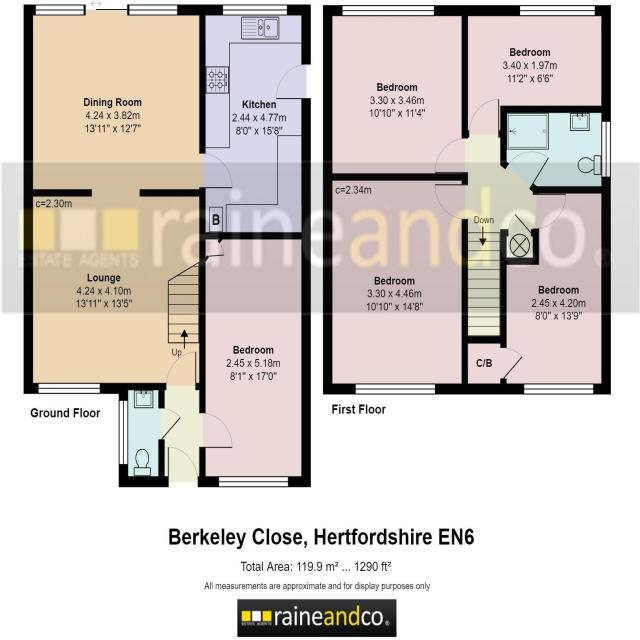DOOR: (504, 150, 551, 190), (433, 136, 469, 175), (275, 63, 312, 100), (433, 182, 468, 221), (165, 350, 198, 391), (167, 445, 199, 487), (199, 411, 234, 449), (532, 192, 567, 229), (468, 98, 500, 138), (199, 153, 233, 189), (158, 407, 182, 441)
ROOM: (22, 3, 233, 395), (322, 173, 468, 395), (461, 186, 611, 394), (198, 232, 311, 488), (199, 4, 311, 240), (322, 4, 469, 181), (461, 5, 611, 138)
WINDOW: (341, 3, 436, 17), (518, 4, 596, 17), (218, 475, 290, 489), (354, 383, 436, 395), (523, 383, 594, 395), (222, 4, 288, 16), (38, 382, 101, 394), (118, 400, 129, 465), (600, 120, 612, 178), (35, 4, 84, 16), (129, 4, 178, 16)
